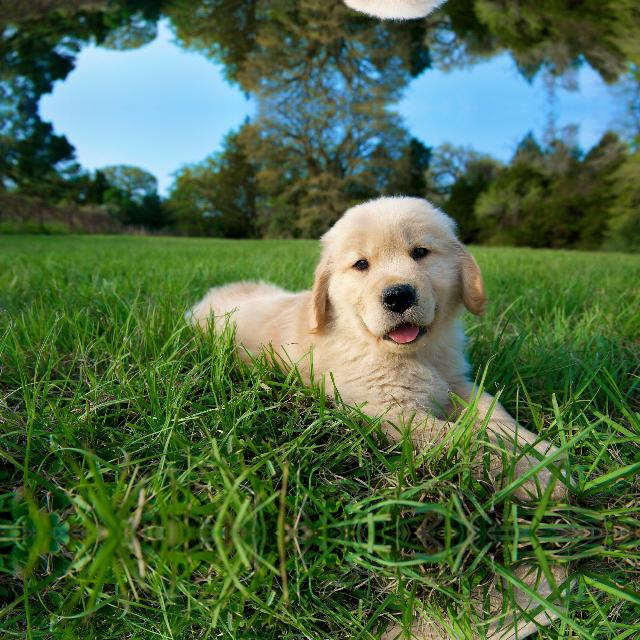dog: (174, 179, 586, 496), (174, 568, 586, 640), (174, 0, 586, 34)
